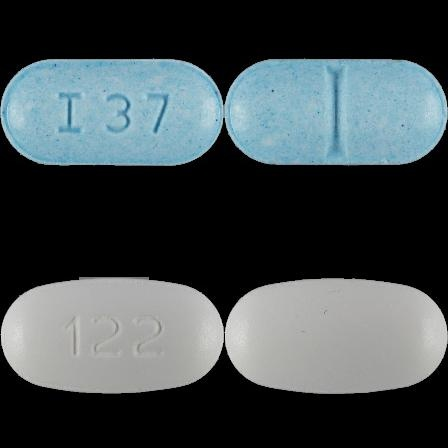10544-300: (0, 0, 224, 224)
